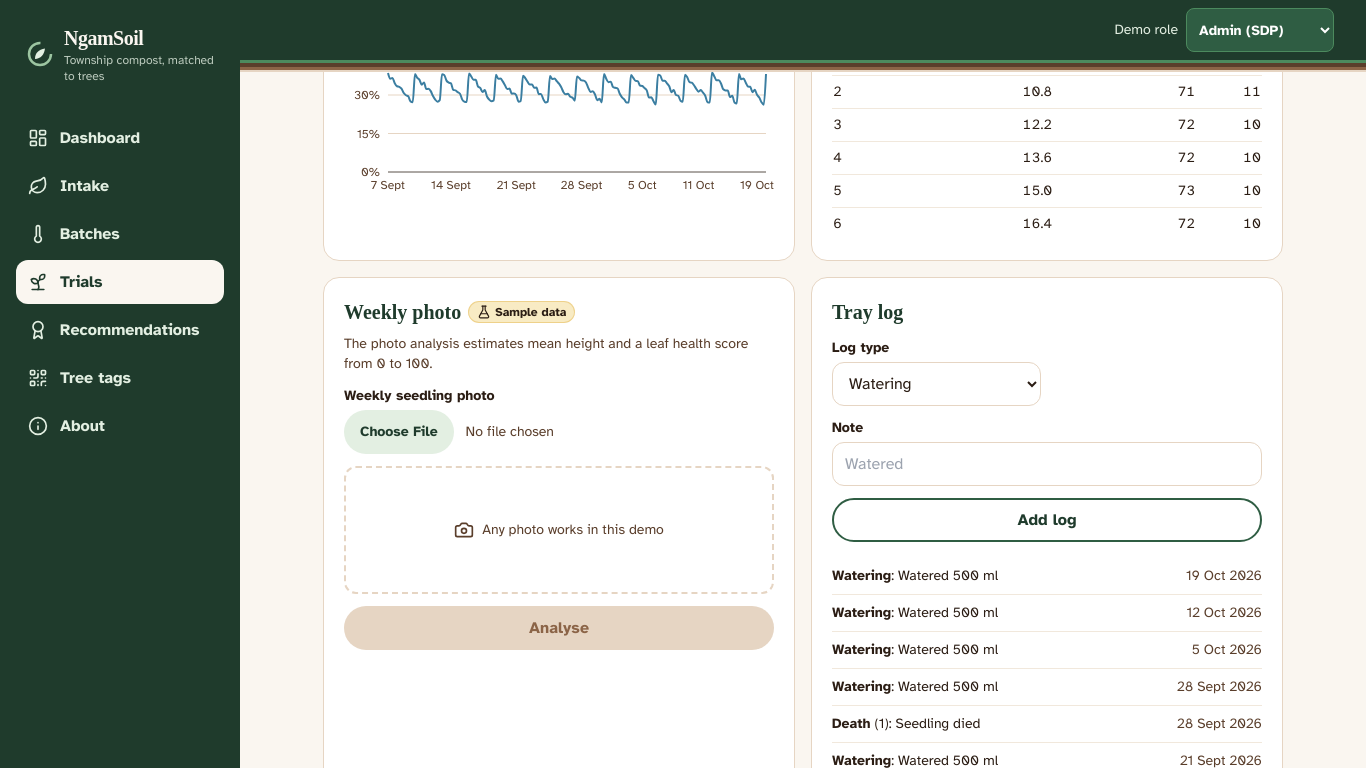
TrialDetailPage › a pest log needs a note
(page scrolled)
Select "Pest" in the dropdown labelled "Log type": (936, 384) [832, 362, 1041, 406]
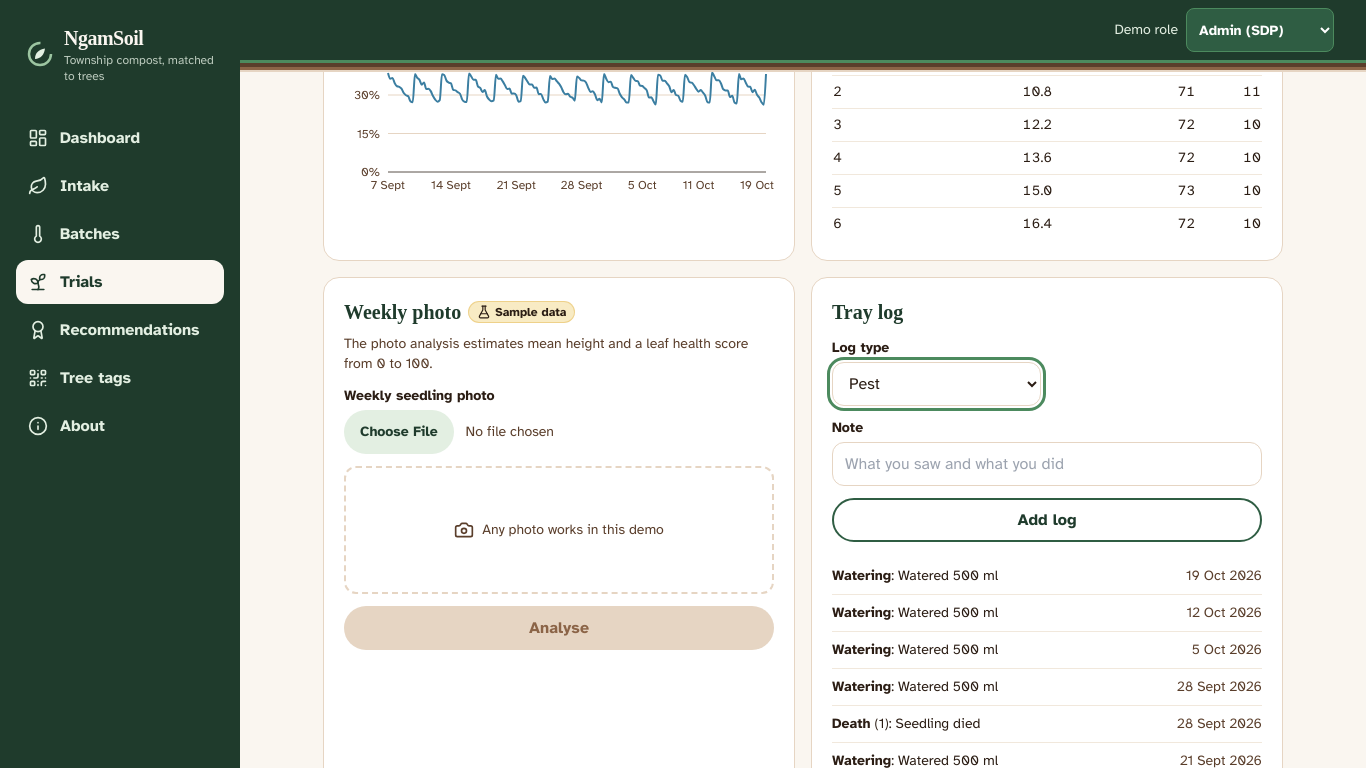
Click the button "Add log": (1047, 520) [832, 498, 1262, 542]
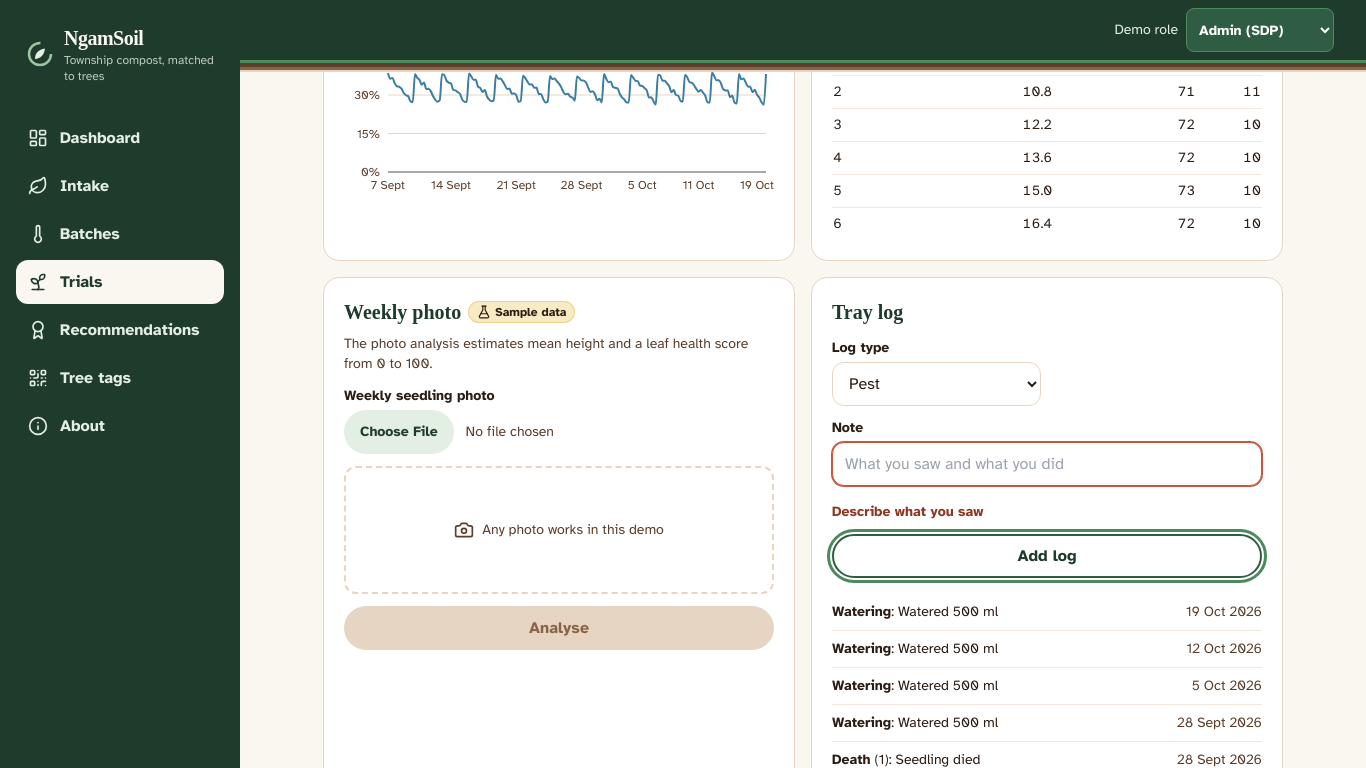
Result: the text "Describe what you saw" is shown at [832, 503, 984, 520]
